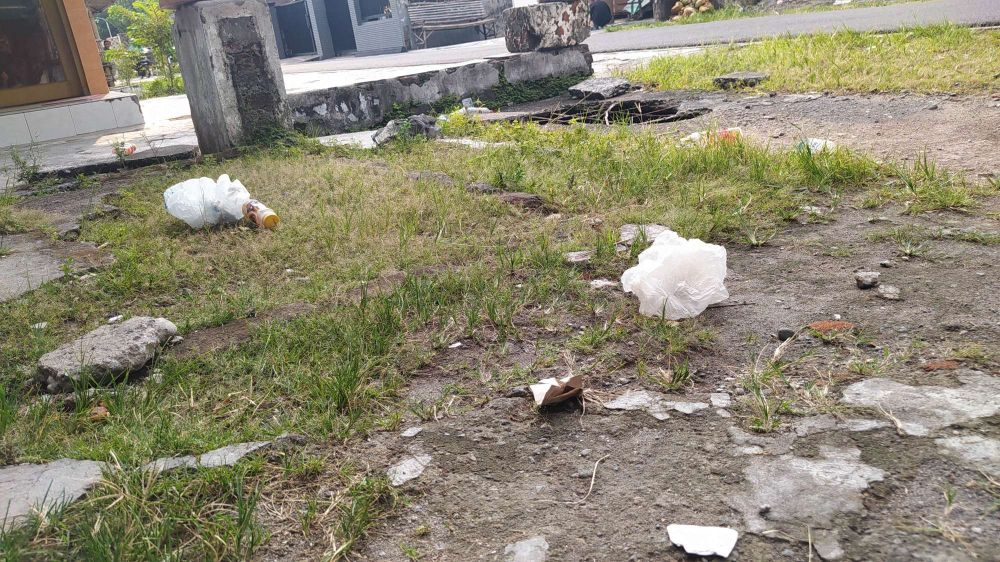botol: (242, 199, 285, 232), (111, 138, 142, 157)
plastik: (621, 224, 745, 329), (162, 170, 245, 231)
